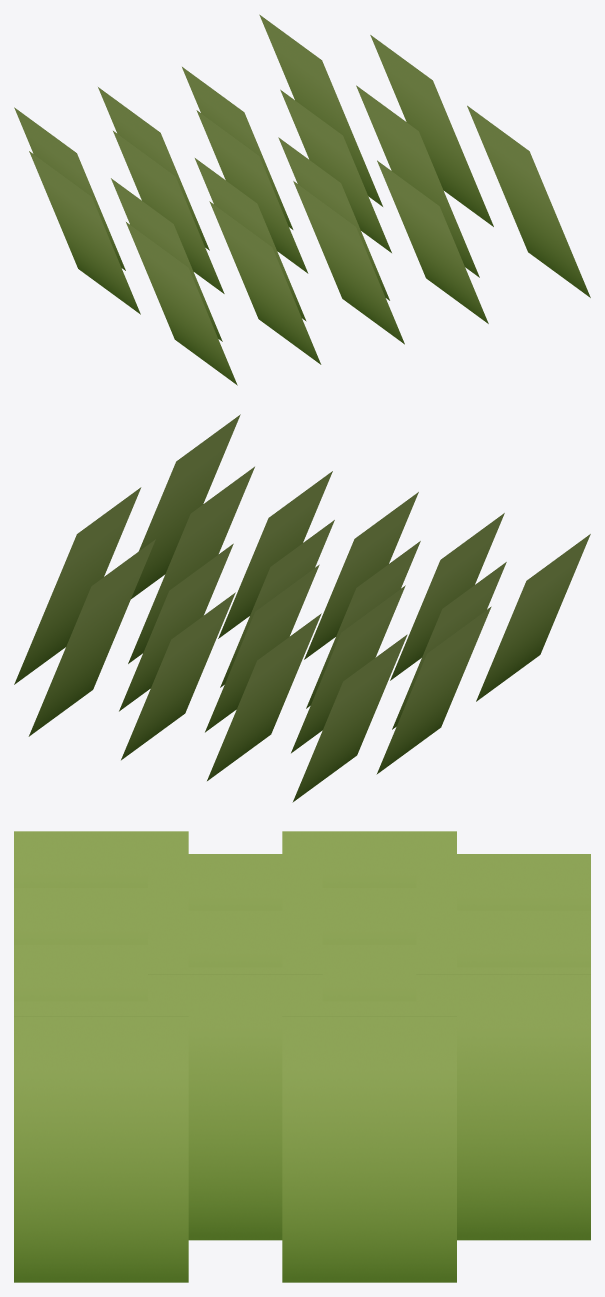
Rendered from grass_1.fbx.
The picture shows the model from 3 angles, top to bottom: view 1: azimuth 30°, elevation 25°; view 2: azimuth 150°, elevation 25°; view 3: azimuth 270°, elevation 25°; orthographic projection. The views are drawn at different scales.
Visible parts, largest first — view 1: Cube; view 2: Cube; view 3: Cube.
Part boxes in pixels (bbox=[...]): Cube: bbox=[14, 14, 590, 385]; Cube: bbox=[14, 414, 590, 802]; Cube: bbox=[14, 831, 590, 1282].
Bounding box in the file's own units: 240 × 93.16 × 215.
1 material, 1 textured.
